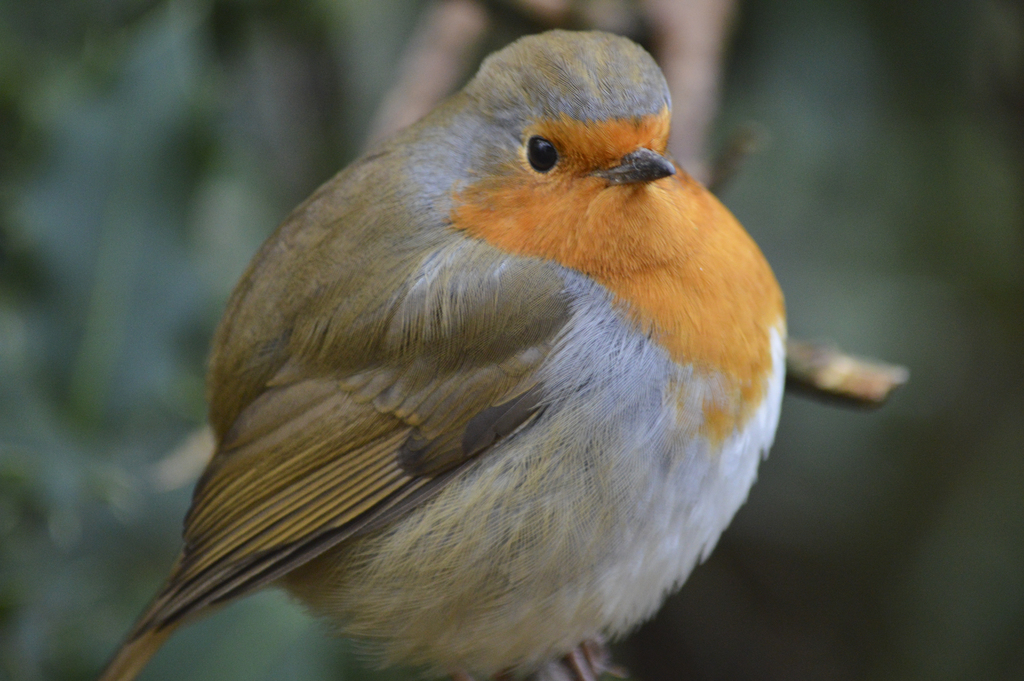person: (359, 0, 744, 195)
